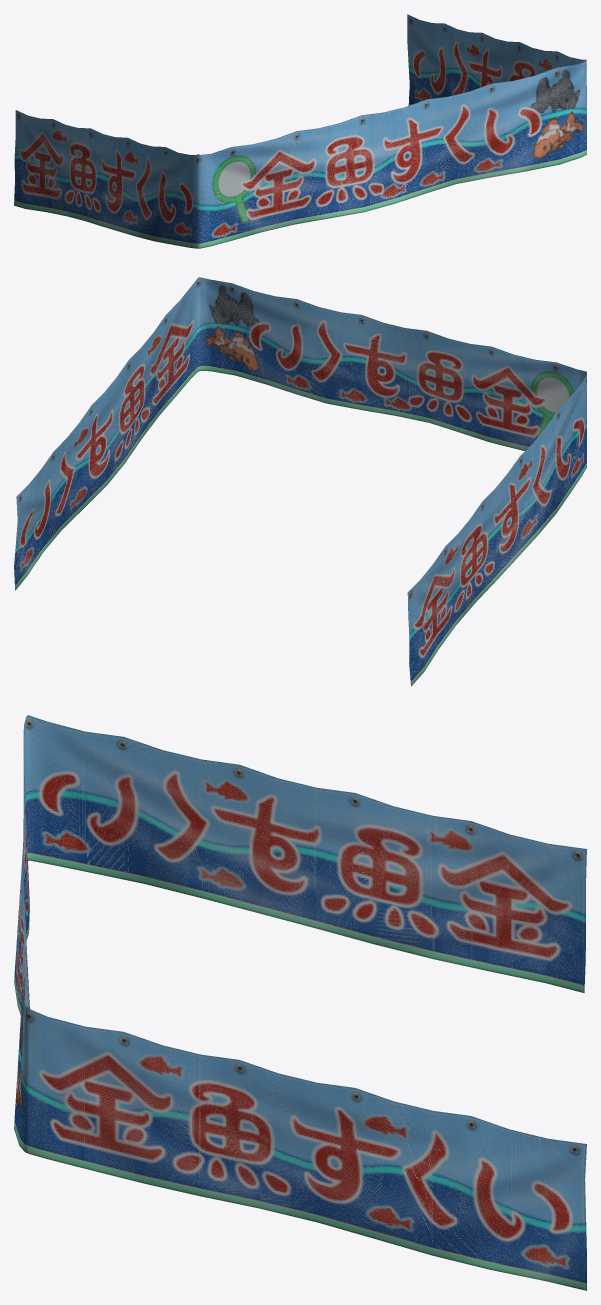
The model's file is jsf_ShopCurtain_GoldfishScooping_02.fbx.
3 views of the same model, one above another, from view 1: azimuth 30°, elevation 25°; view 2: azimuth 150°, elevation 25°; view 3: azimuth 270°, elevation 25° (orthographic). The views are drawn at different scales.
Visible parts, largest first — view 1: jsf_ShopCurtain_GoldfishScooping_02; view 2: jsf_ShopCurtain_GoldfishScooping_02; view 3: jsf_ShopCurtain_GoldfishScooping_02.
Part boxes in pixels (x1,y1,x2,y2): jsf_ShopCurtain_GoldfishScooping_02: (14,14,586,248); jsf_ShopCurtain_GoldfishScooping_02: (14,277,586,686); jsf_ShopCurtain_GoldfishScooping_02: (14,715,586,1290).
Size of the model in its own units: 268 by 117 by 215.
